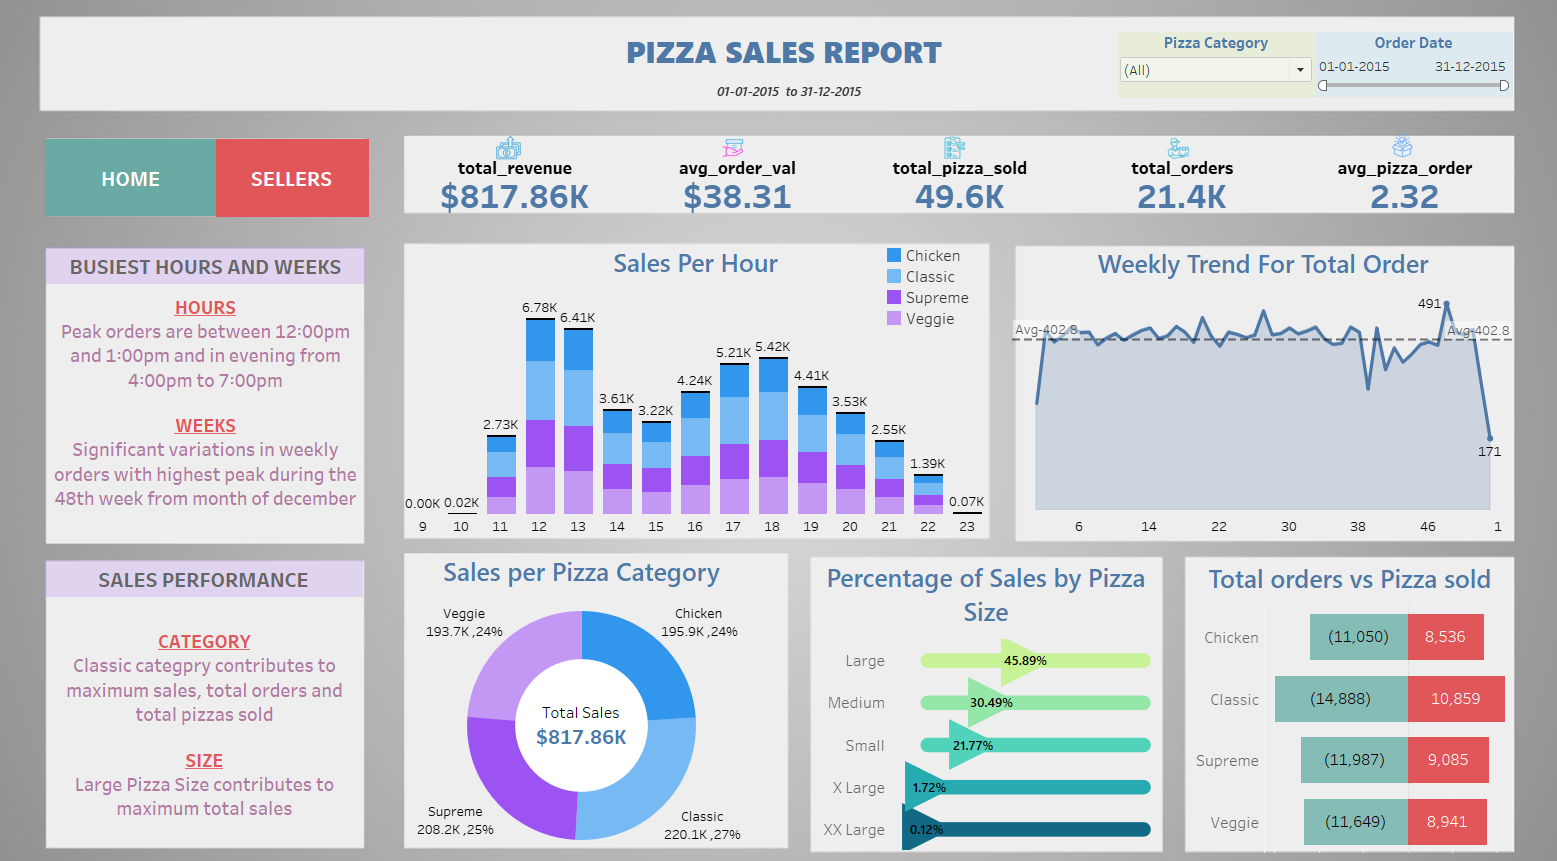

The page's visual inventory and layout, read from the dashboard file:
{"tool":"tableau","page":{"name":"Dashboard 1","canvas":[1600,900],"ordinal":0},"visuals":[{"type":"image","param":"C:/Users/Dhruv/OneDrive - somaiya.edu/Pictures/Screenshot 2024-03-26 192041.png","box":[8,8,1584,884]},{"type":"text","box":[29,39,1538,78]},{"type":"filter","title":"2","param":"[federated.08zf9230ml47uw1a5tvt80p6vtxv].[none:pizza_category:nk]","box":[1131,59,198,66]},{"type":"filter","title":"2","param":"[federated.08zf9230ml47uw1a5tvt80p6vtxv].[none:order_date:qk]","box":[1328,59,199,65]},{"type":"worksheet","title":"Sheet 7","mark":"Automatic","box":[606,98,395,40]},{"type":"image","param":"D:/Downloads/Pizza Sales Images-20240324T122740Z-001/Pizza Sales Images/order (1","box":[1404,159,24,27]},{"type":"image","param":"D:/Downloads/Pizza Sales Images-20240324T122740Z-001/Pizza Sales Images/profit-g","box":[506,160,32,28]},{"type":"image","param":"D:/Downloads/Pizza Sales Images-20240324T122740Z-001/Pizza Sales Images/shipping","box":[733,163,27,23]},{"type":"image","param":"D:/Downloads/Pizza Sales Images-20240324T122740Z-001/Pizza Sales Images/order-de","box":[956,163,26,23]},{"type":"image","param":"D:/Downloads/Pizza Sales Images-20240324T122740Z-001/Pizza Sales Images/delivery","box":[1179,164,27,22]},{"type":"dashboard-object","box":[59,166,173,77]},{"type":"dashboard-object","box":[230,166,153,78]},{"type":"worksheet","title":"kpi","mark":"Automatic","box":[418,184,1112,56]},{"type":"worksheet","title":"2","mark":"Bar","rows":["Calculation_738871813885161475","Calculation_738871813885161475"],"cols":["order_time"],"box":[418,268,583,295]},{"type":"worksheet","title":"Sheet 3","mark":"Area","rows":["Calculation_738871813884829697","Calculation_738871813884829697"],"cols":["order_date"],"box":[1026,269,502,298]},{"type":"legend","title":"2","param":"[federated.08zf9230ml47uw1a5tvt80p6vtxv].[none:pizza_category:nk]","box":[898,272,105,103]},{"type":"text","box":[60,274,319,37]},{"type":"text","box":[59,291,321,281]},{"type":"worksheet","title":"Sheet 4","mark":"Pie","rows":["Calculation_738871813908869129","Calculation_738871813908914187"],"box":[372,577,447,302]},{"type":"worksheet","title":"Sheet 5","mark":"Line","rows":["pizza_size"],"box":[824,583,352,295]},{"type":"worksheet","title":"Sheet 6","mark":"Automatic","rows":["pizza_category"],"box":[1198,584,332,296]},{"type":"text","box":[58,587,319,37]},{"type":"text","box":[58,613,321,281]}]}

Visuals, with their boxes in screenshot pixels (x1, y1, x2, y2), scaled from the page's 1600x900 canvas onto the 1557x861 screenshot:
image: region(8, 8, 1549, 853)
text: region(28, 37, 1525, 112)
"2" filter: region(1101, 56, 1293, 120)
"2" filter: region(1292, 56, 1486, 119)
"Sheet 7" worksheet: region(590, 94, 974, 132)
image: region(1366, 152, 1390, 178)
image: region(492, 153, 524, 180)
image: region(713, 156, 740, 178)
image: region(930, 156, 956, 178)
image: region(1147, 157, 1174, 178)
dashboard-object: region(57, 159, 226, 232)
dashboard-object: region(224, 159, 373, 233)
"kpi" worksheet: region(407, 176, 1489, 230)
"2" worksheet (Bar marks): region(407, 256, 974, 539)
"Sheet 3" worksheet (Area marks): region(998, 257, 1487, 542)
"2" legend: region(874, 260, 976, 359)
text: region(58, 262, 369, 298)
text: region(57, 278, 370, 547)
"Sheet 4" worksheet (Pie marks): region(362, 552, 797, 841)
"Sheet 5" worksheet (Line marks): region(802, 558, 1144, 840)
"Sheet 6" worksheet: region(1166, 559, 1489, 842)
text: region(56, 562, 367, 597)
text: region(56, 586, 369, 855)
